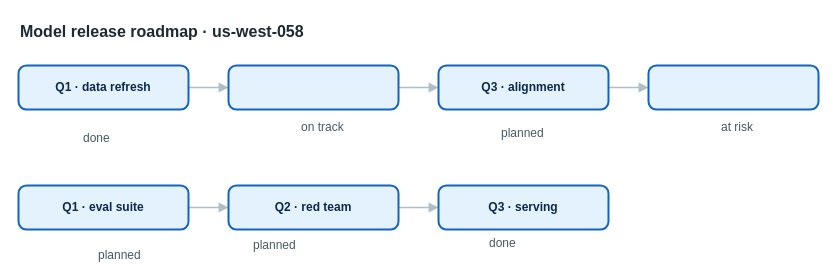
Image size: 836x280. Some labels were removed from this diagram. The centre of each missing label's shape, as x and y in pixels:
"Q2 · pretrain" belongs at (x=313, y=87).
"Q4 · launch" belongs at (x=733, y=87).
